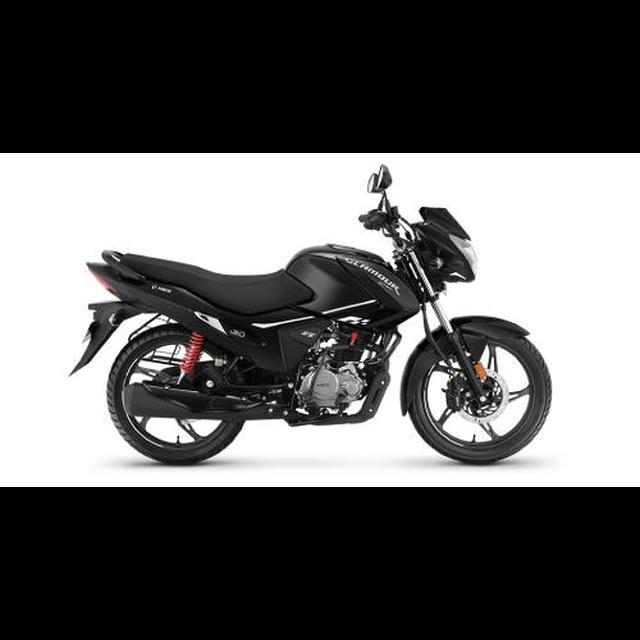motorcycle: (63, 161, 558, 469)
